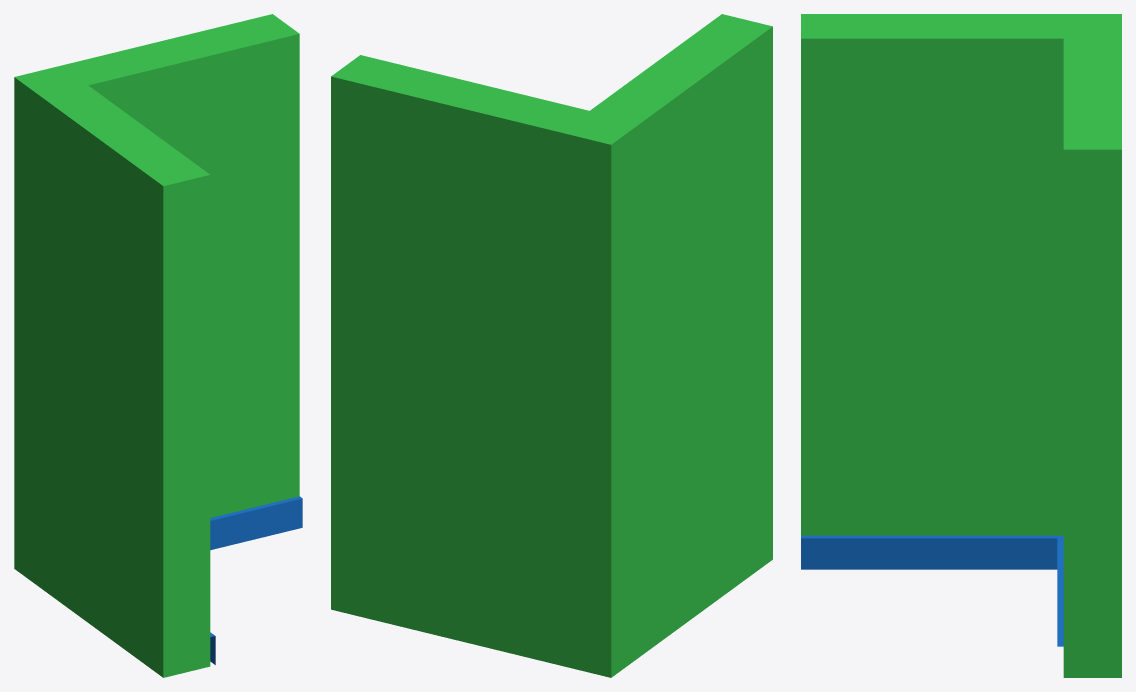
Rendered from SM_wall4.fbx.
The picture shows the model from 3 angles, left to right: view 1: azimuth 30°, elevation 25°; view 2: azimuth 150°, elevation 25°; view 3: azimuth 270°, elevation 25°; orthographic projection. The views are drawn at different scales.
Parts seen in each view (by area): view 1: wall4; view 2: wall4; view 3: wall4.
Part boxes in pixels (x1,y1,x2,y2): wall4: [14, 14, 302, 677]; wall4: [331, 14, 772, 677]; wall4: [801, 14, 1121, 677].
Size of the model in its own units: 165 by 300 by 165.
